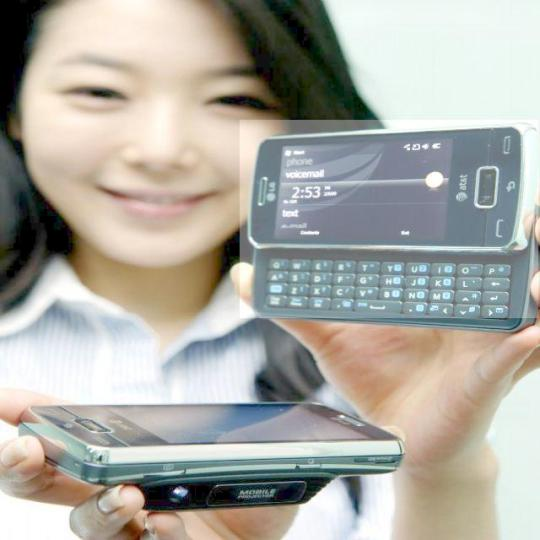phone: (241, 127, 534, 331), (13, 400, 399, 510)
